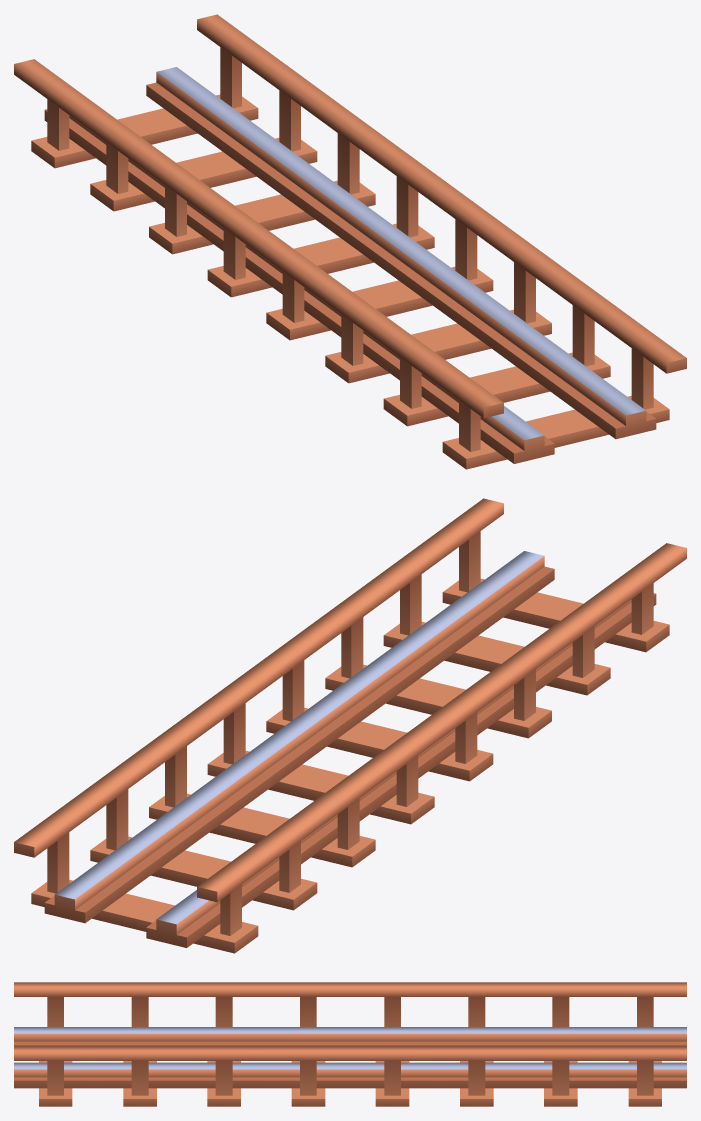
Rendered from kenney-coaster-coaster-wood-straight.glb.
3 views of the same model, one above another, from view 1: azimuth 30°, elevation 25°; view 2: azimuth 150°, elevation 25°; view 3: azimuth 270°, elevation 25° (orthographic). The views are drawn at different scales.
Parts seen in each view (by area): view 1: coaster-wood-straight; view 2: coaster-wood-straight; view 3: coaster-wood-straight.
Boxes of the visible parts, x1=… form: coaster-wood-straight: x1=14, y1=14, x2=686, y2=469; coaster-wood-straight: x1=14, y1=498, x2=686, y2=953; coaster-wood-straight: x1=14, y1=982, x2=686, y2=1106.
Size of the model in its own units: 1 by 0.3501 by 4.
1 material, 1 textured.
